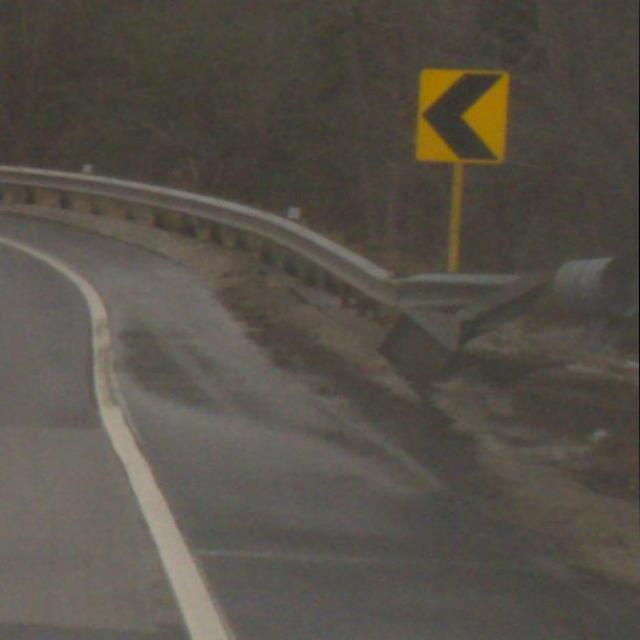Guard rail: (0, 156, 552, 393)
